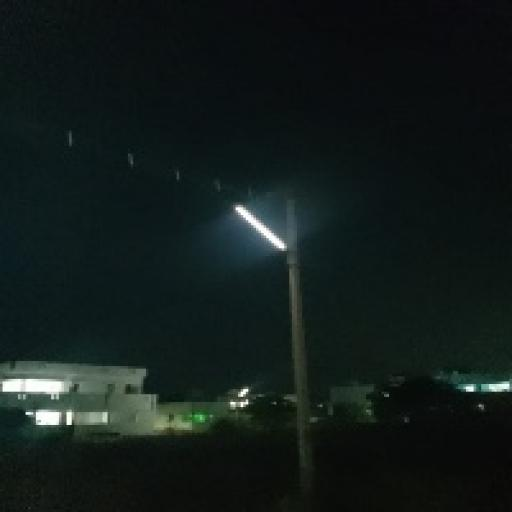Working: (227, 196, 293, 257)
